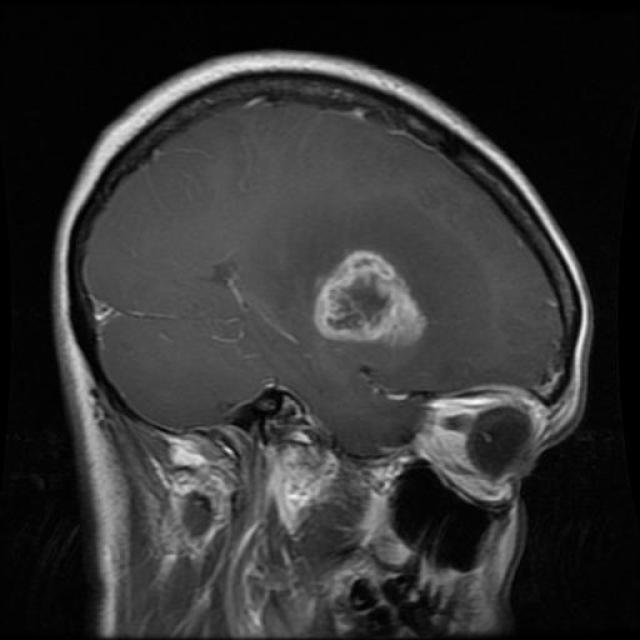glioma: (312, 248, 428, 348)
